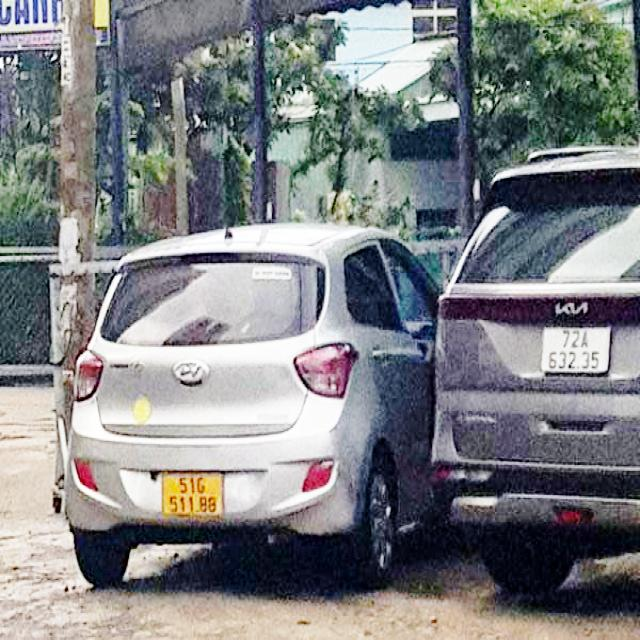license_plate: (543, 326, 611, 375), (165, 471, 225, 516)
